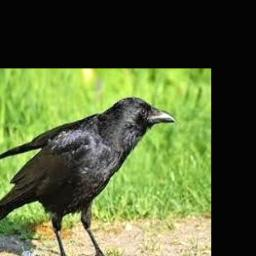Crow: (0, 97, 179, 256)
